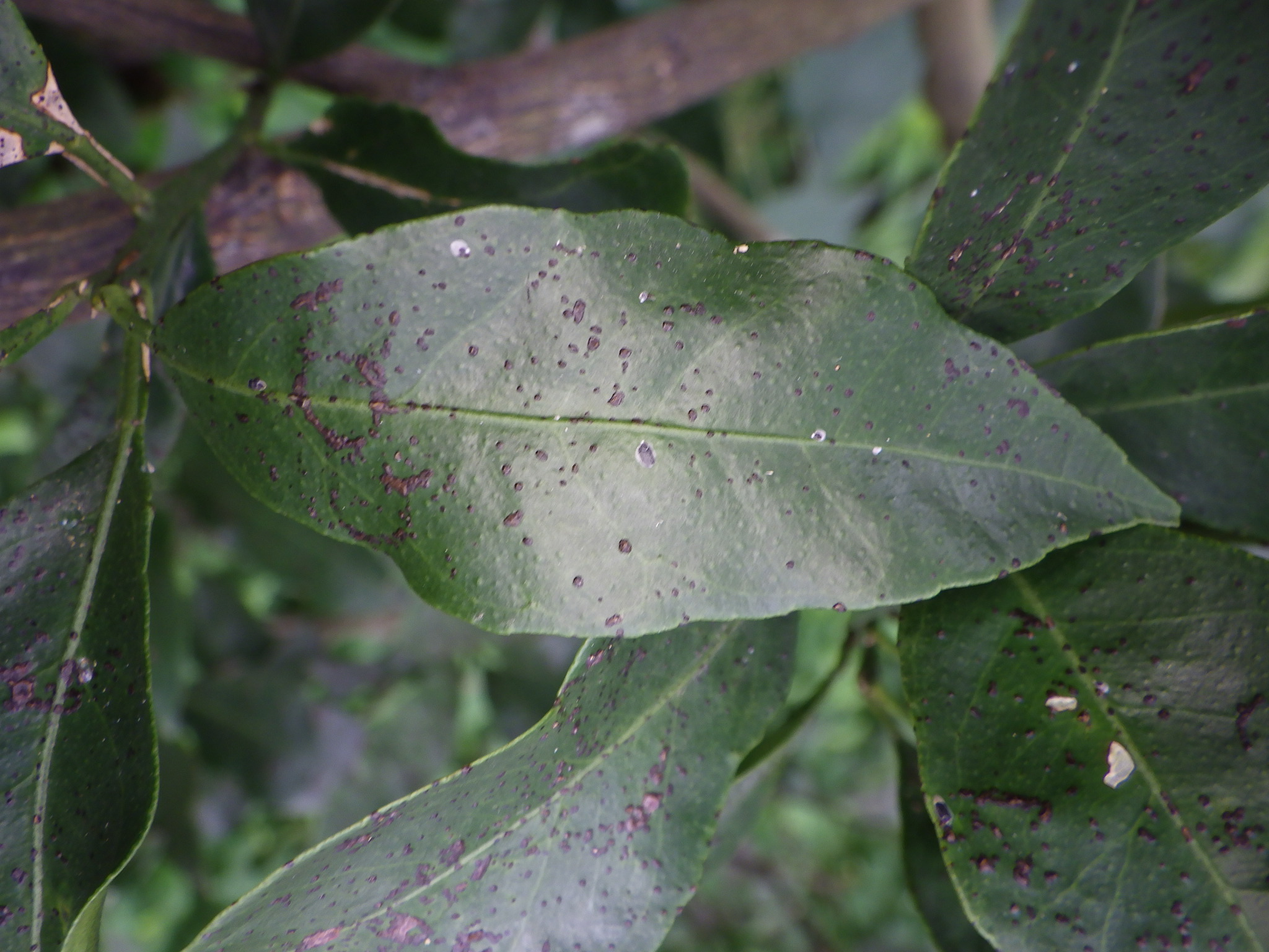Black_Spot: (152, 206, 1174, 635)
